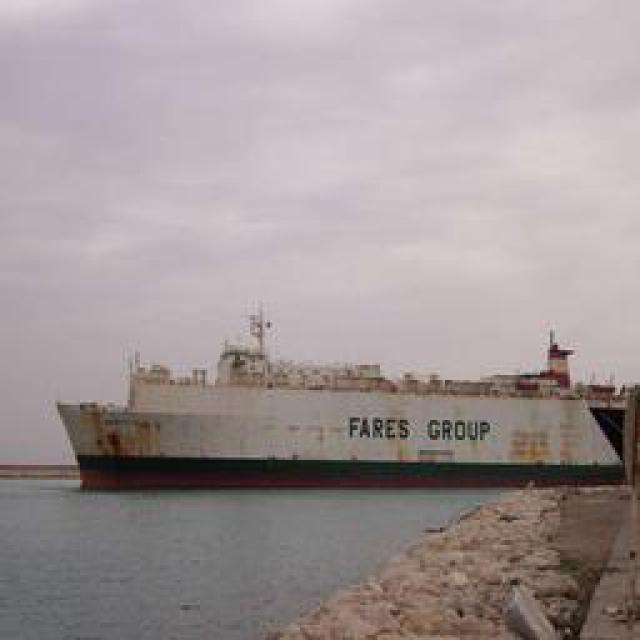Ship: (51, 343, 640, 479)
